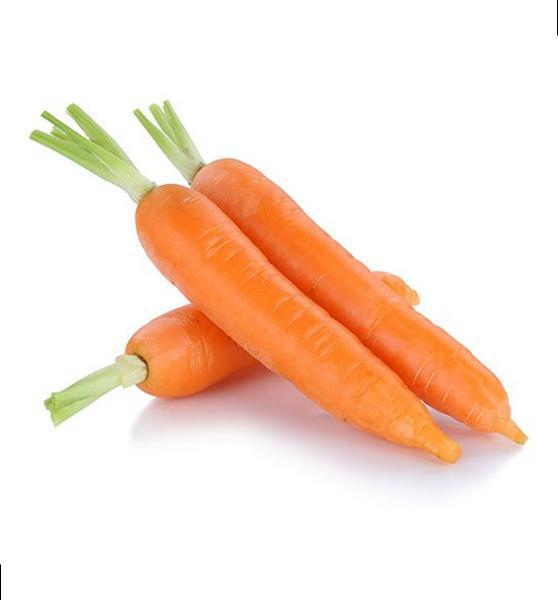carrot: (19, 105, 537, 467)
